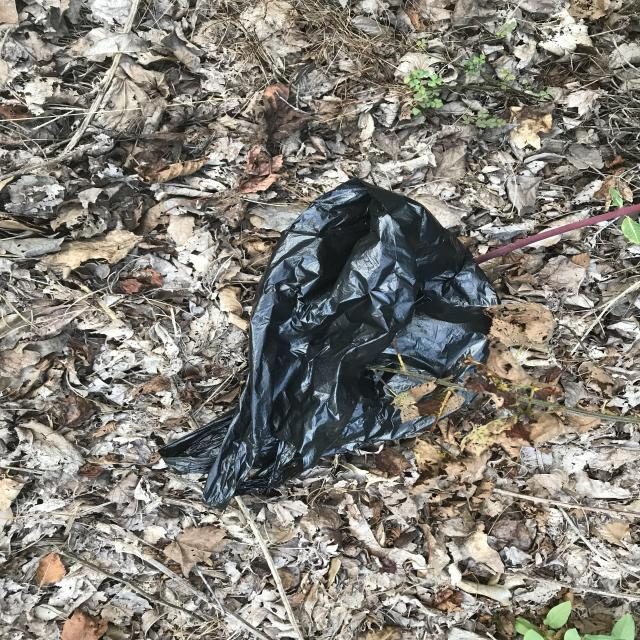litter: (152, 177, 501, 509)
